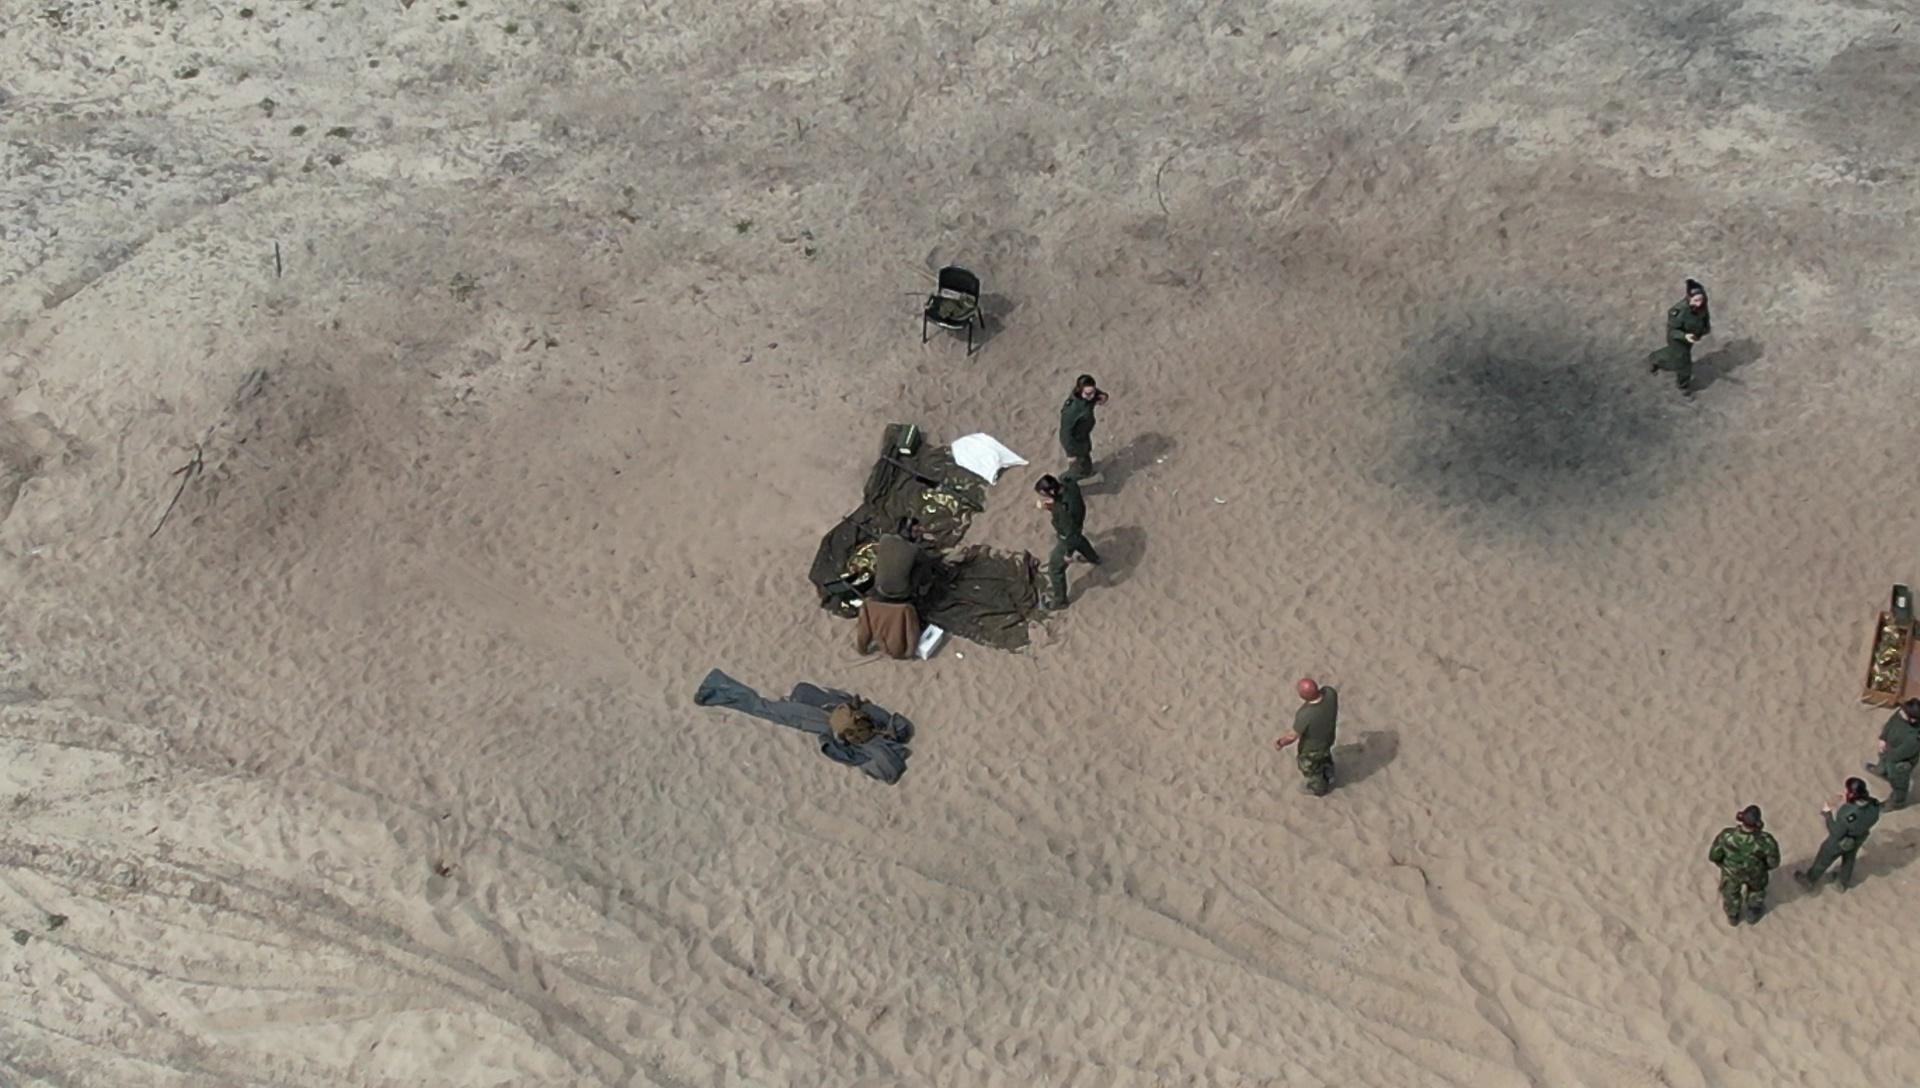Soldier: (1276, 657, 1395, 830), (1029, 404, 1130, 528), (870, 508, 972, 617), (1713, 794, 1788, 942), (1042, 392, 1113, 547), (1655, 276, 1718, 422), (1818, 764, 1879, 907), (1876, 688, 1920, 827)
